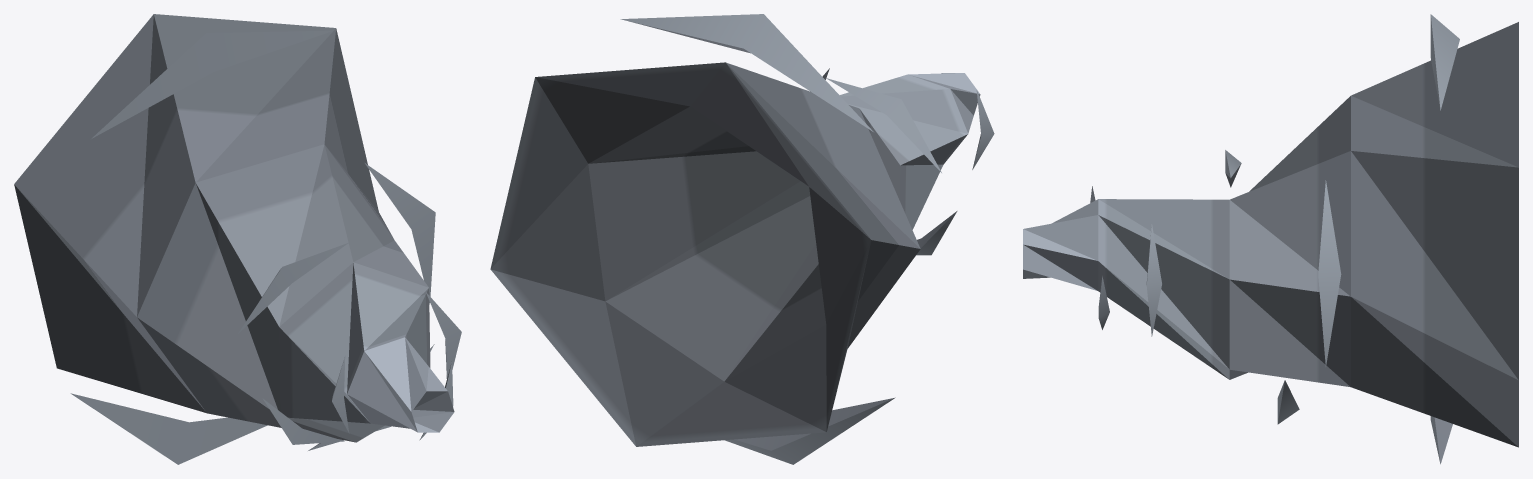
The model's file is CA_Tornado.FBX.
3 views of the same model, side by side, from view 1: azimuth 30°, elevation 25°; view 2: azimuth 150°, elevation 25°; view 3: azimuth 270°, elevation 25° (orthographic). The views are drawn at different scales.
Visible parts, largest first — view 1: Tornado; view 2: Tornado; view 3: Tornado.
Boxes of the visible parts, x1,y1,x2,y2 form: Tornado: (14,14,461,464); Tornado: (490,14,994,464); Tornado: (1023,14,1518,464).
Bounding box in the file's own units: 58.83 × 70.08 × 65.49.
